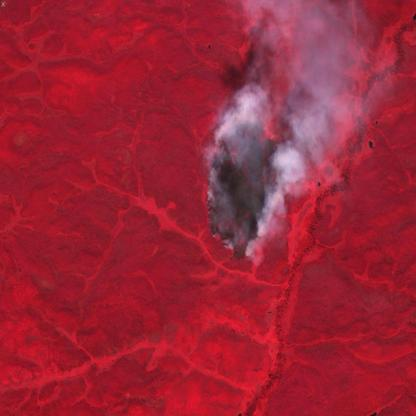fire: (200, 103, 284, 264)
